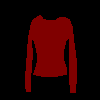maglia: (24, 14, 77, 92)
